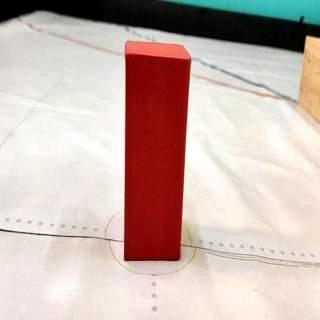redbox: (126, 38, 192, 262)
